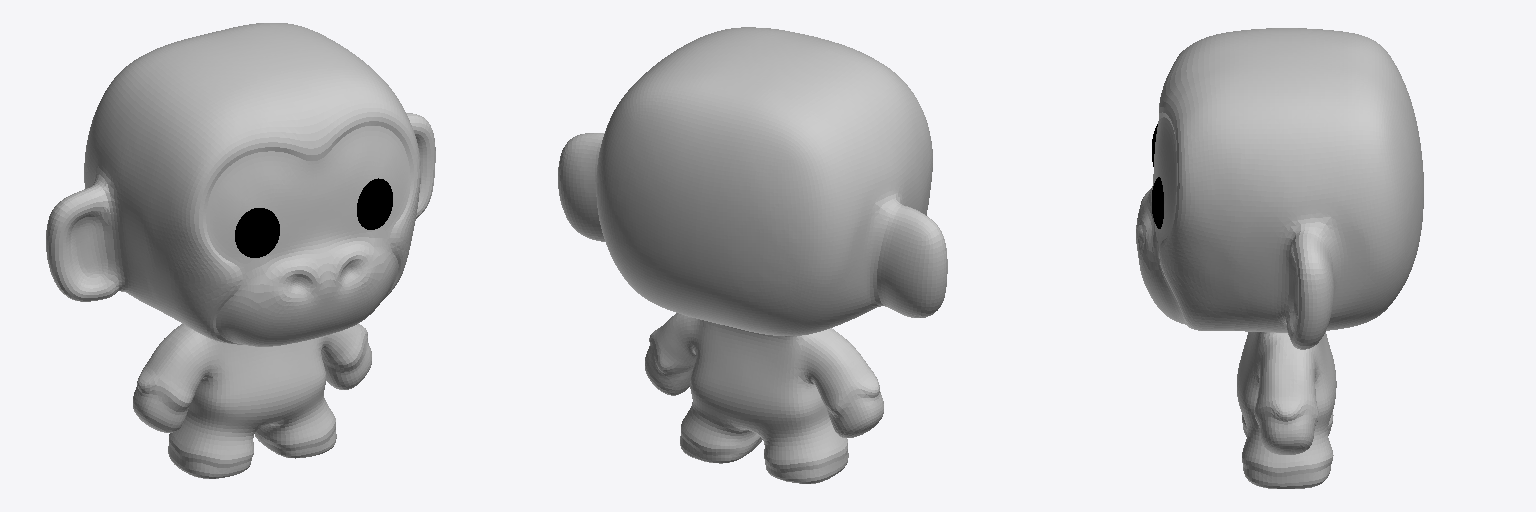
File: Ape(chadium12).obj
3 renders of one model, left to right at view 1: azimuth 30°, elevation 25°; view 2: azimuth 150°, elevation 25°; view 3: azimuth 270°, elevation 25°, orthographic.
Parts seen in each view (by area): view 1: Head_Head.001, Torso_Body, Right_Arm_Right_Arm.001, Right_Leg_Right_Leg.001, Left_Leg_Left_Leg.001, Left_Arm_Left_Arm.001; view 2: Head_Head.001, Torso_Body, Right_Arm_Right_Arm.001, Right_Leg_Right_Leg.001, Left_Arm_Left_Arm.001, Left_Leg_Left_Leg.001; view 3: Head_Head.001, Left_Arm_Left_Arm.001, Left_Leg_Left_Leg.001, Torso_Body.
Part boxes in pixels (x1,y1,x2,y2): Head_Head.001: (46,23,435,346); Torso_Body: (185,337,325,432); Right_Arm_Right_Arm.001: (133,324,212,432); Right_Leg_Right_Leg.001: (168,419,254,478); Left_Leg_Left_Leg.001: (255,400,336,458); Left_Arm_Left_Arm.001: (321,323,371,389); Head_Head.001: (558,27,947,335); Torso_Body: (690,319,831,437); Right_Arm_Right_Arm.001: (804,328,883,437); Right_Leg_Right_Leg.001: (761,424,848,483); Left_Arm_Left_Arm.001: (645,313,697,395); Left_Leg_Left_Leg.001: (680,406,762,463); Head_Head.001: (1136,28,1423,349); Left_Arm_Left_Arm.001: (1254,336,1318,454); Left_Leg_Left_Leg.001: (1242,430,1333,488); Torso_Body: (1237,332,1336,435).
Size of the model in its own units: 3.98 by 3.96 by 2.58.